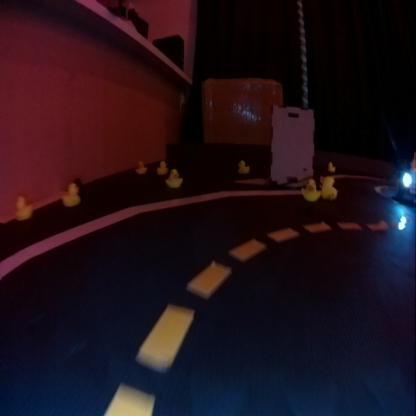Duckie: (16, 196, 32, 219), (61, 187, 81, 205), (301, 182, 317, 202), (321, 175, 335, 196), (165, 170, 181, 188), (155, 160, 167, 176), (238, 159, 249, 173), (136, 160, 146, 174), (327, 160, 334, 172)
